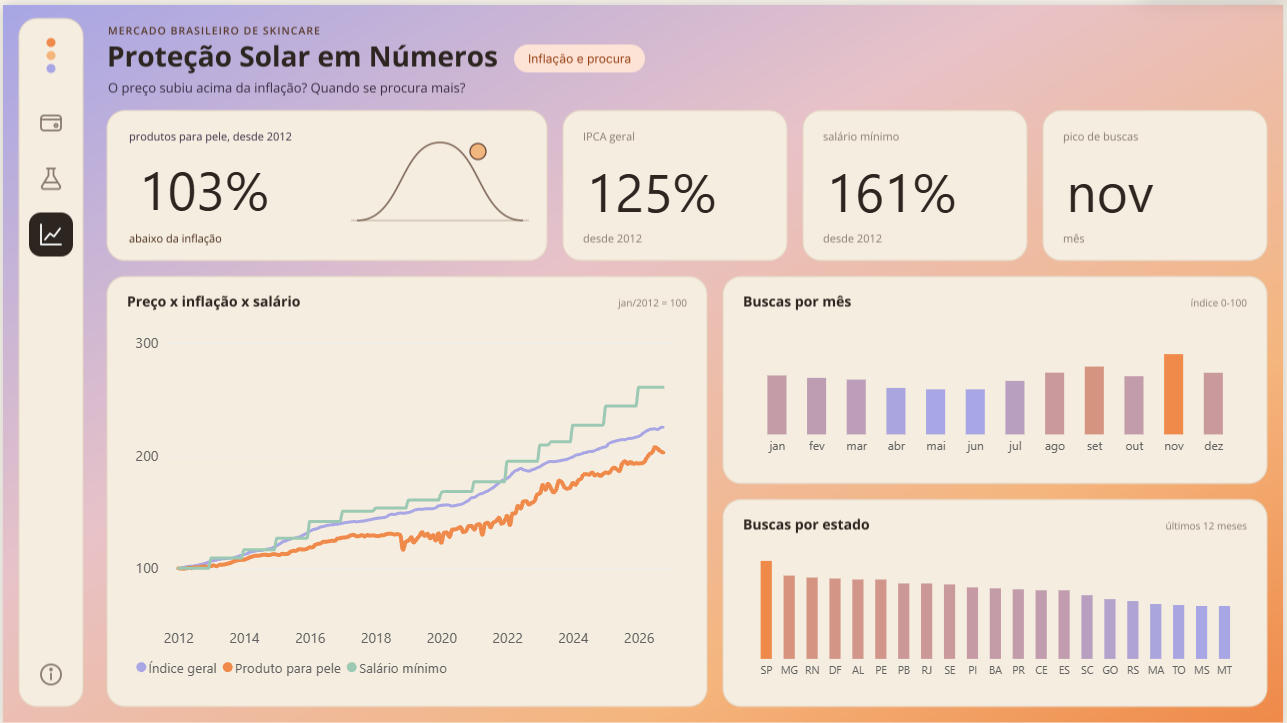

This screenshot's page, from the dashboard's own definition file:
{"tool":"powerbi","page":{"name":"Inflação e procura","canvas":[1280,720],"ordinal":2},"visuals":[{"type":"actionButton","title":"Sobre os dados","box":[26,650,44,44],"z":0},{"type":"actionButton","title":"Inflação e procura","box":[26.1,209.4,44,44],"z":1000},{"type":"actionButton","title":"Preço e ativos","box":[26,154,44,44],"z":2000},{"type":"actionButton","title":"Custo","box":[26,98,44,44],"z":3000},{"type":"cardVisual","fields":{"Data":["inflacao.Alta produto para pele"]},"box":[120,142,300,80],"z":3001},{"type":"cardVisual","fields":{"Data":["inflacao.Alta IPCA geral"]},"box":[568,150,208,70],"z":3002},{"type":"cardVisual","fields":{"Data":["inflacao.Alta salário mínimo"]},"box":[808,150,208,70],"z":3003},{"type":"cardVisual","fields":{"Data":["buscas_tempo.Mês de pico"]},"box":[1048,150,208,70],"z":3004},{"type":"lineChart","fields":{"Category":["inflacao.mes"],"Series":["inflacao.serie"],"Y":["Sum(inflacao.indice_base_100)"]},"box":[116,312,576,380],"z":3005},{"type":"clusteredColumnChart","fields":{"Category":["buscas_tempo.Mês"],"Y":["Avg(buscas_tempo.indice)"]},"box":[732,310,520,160],"z":3006},{"type":"clusteredColumnChart","fields":{"Category":["buscas_estados.uf"],"Y":["Sum(buscas_estados.indice)"]},"box":[732,533,520,160],"z":3007}]}

Visuals, with their boxes on the page's 1280x720 design canvas (x1, y1, x2, y2). These are canvas units, not pixel positions in the 1287x723 screenshot, which may show the page scaled, cropped or inside an application window:
"Sobre os dados" actionButton: box(26, 650, 70, 694)
"Inflação e procura" actionButton: box(26, 209, 70, 253)
"Preço e ativos" actionButton: box(26, 154, 70, 198)
"Custo" actionButton: box(26, 98, 70, 142)
cardVisual - inflacao.Alta produto para pele: box(120, 142, 420, 222)
cardVisual - inflacao.Alta IPCA geral: box(568, 150, 776, 220)
cardVisual - inflacao.Alta salário mínimo: box(808, 150, 1016, 220)
cardVisual - buscas_tempo.Mês de pico: box(1048, 150, 1256, 220)
lineChart - inflacao.mes x inflacao.serie: box(116, 312, 692, 692)
clusteredColumnChart - buscas_tempo.Mês x Avg(buscas_tempo.indice): box(732, 310, 1252, 470)
clusteredColumnChart - buscas_estados.uf x Sum(buscas_estados.indice): box(732, 533, 1252, 693)
